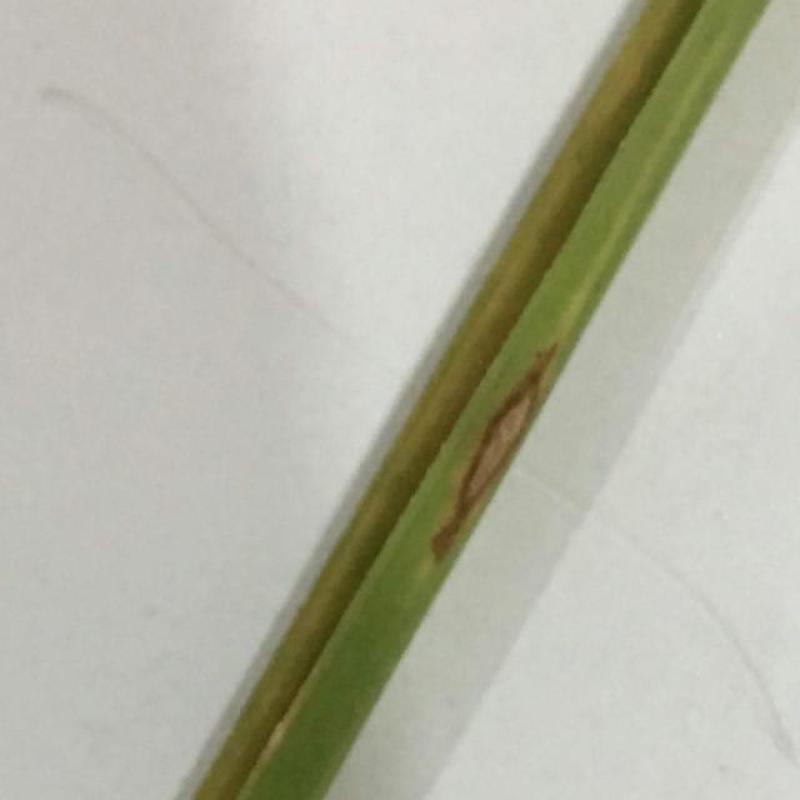Leaf_Blast: (425, 349, 571, 576)
